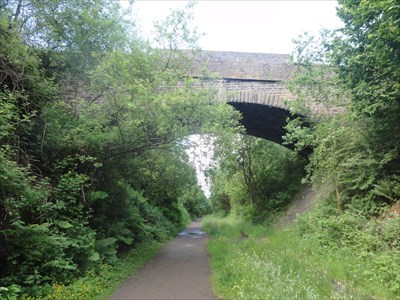bridge: (40, 51, 348, 156)
